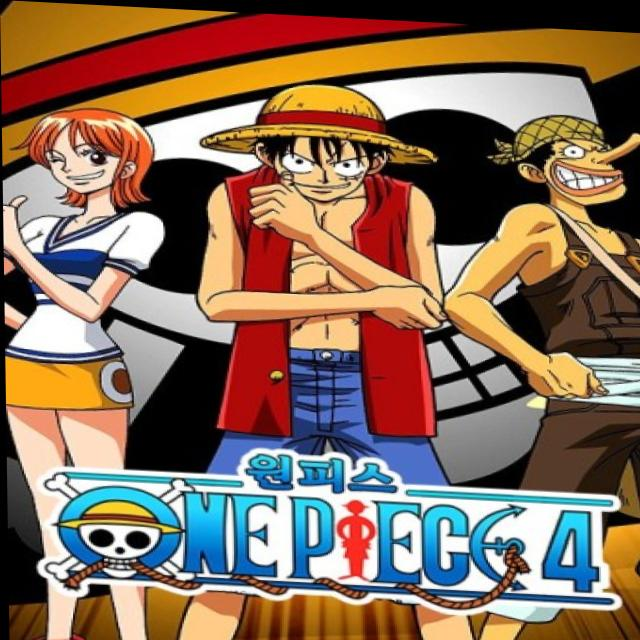Luffy: (194, 70, 437, 213)
Nami: (16, 100, 168, 209)
Usopp: (483, 92, 640, 216)
